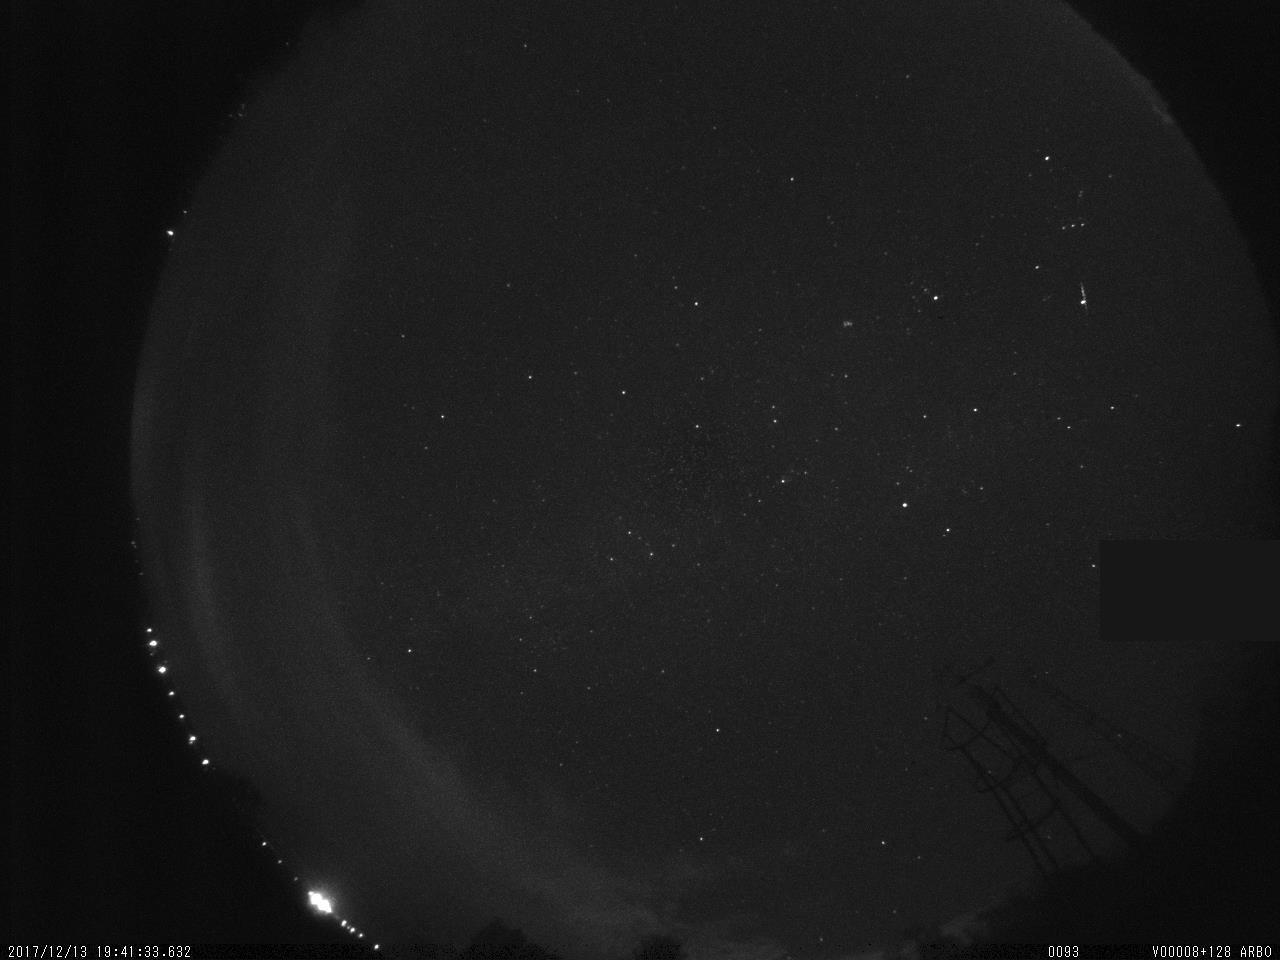meteor: (1072, 275, 1100, 314)
